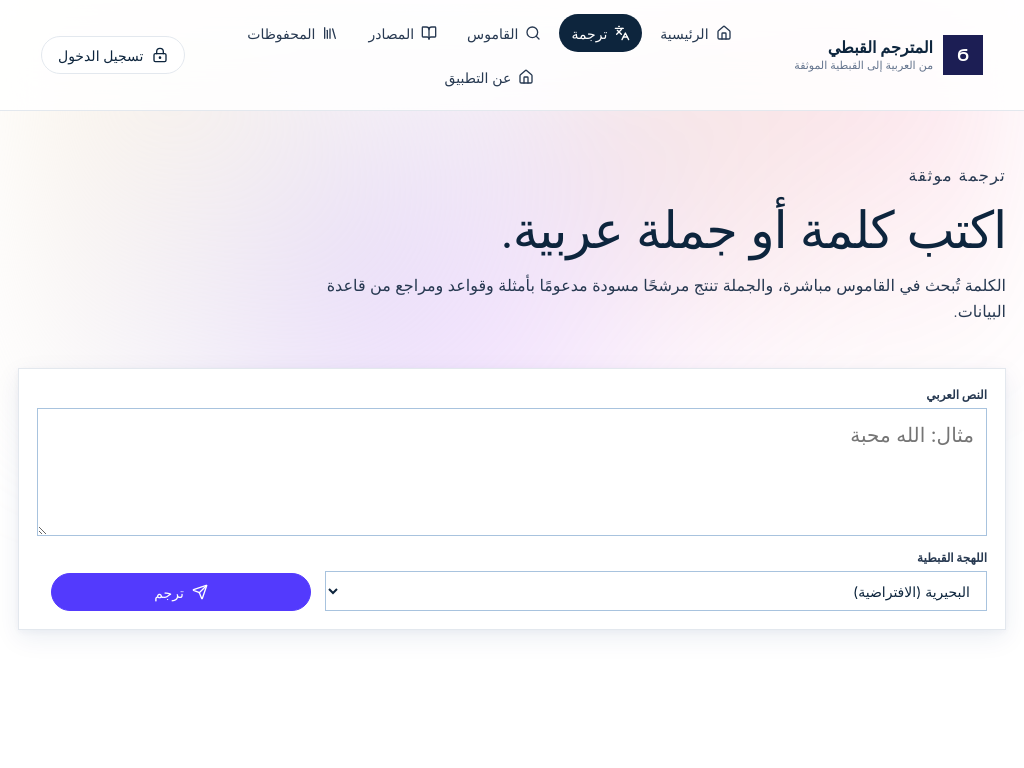
TranslatePage › shows backend errors as an error state
Type "سلام" into the text box with placeholder "مثال: الله محبة" at [512, 472], box left=37, top=408, right=987, bottom=536
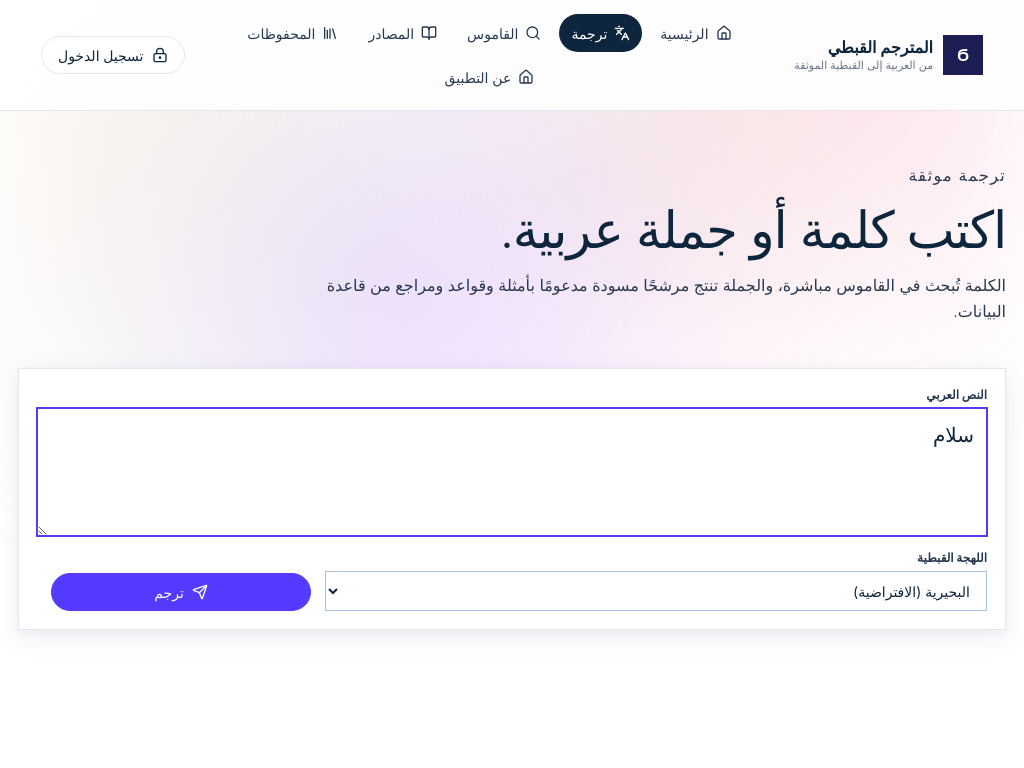
Click the button "ترجم" at [181, 592], box left=51, top=573, right=311, bottom=611
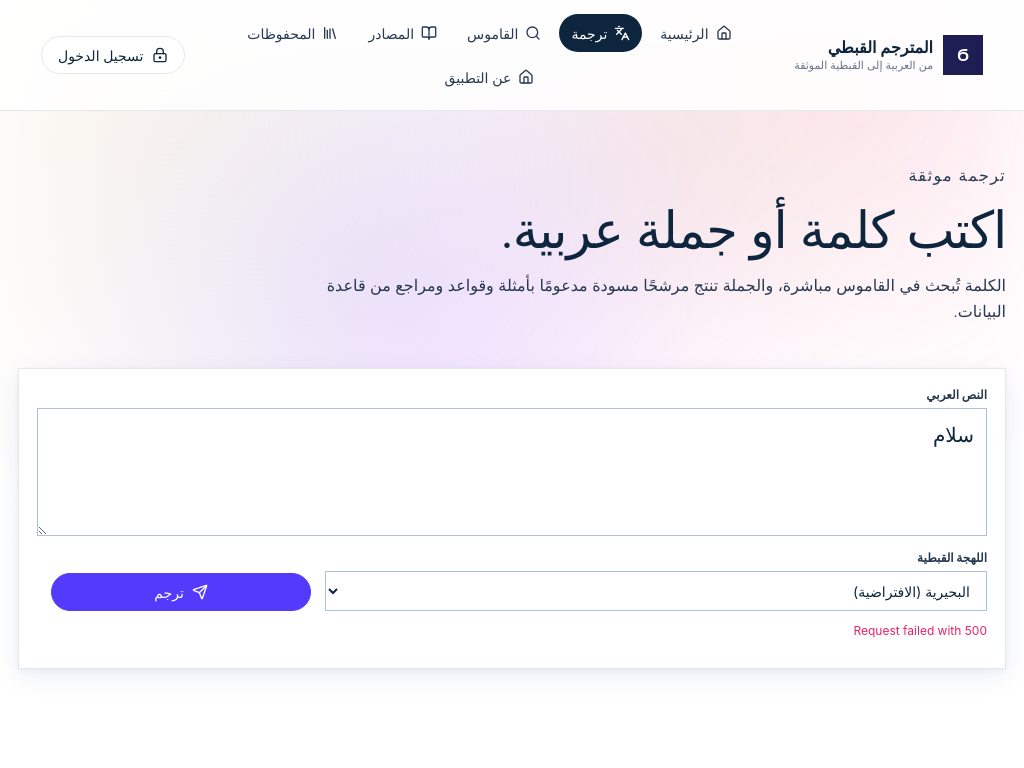
Check: the text "Request failed with 500" is shown, box left=854, top=623, right=987, bottom=638
